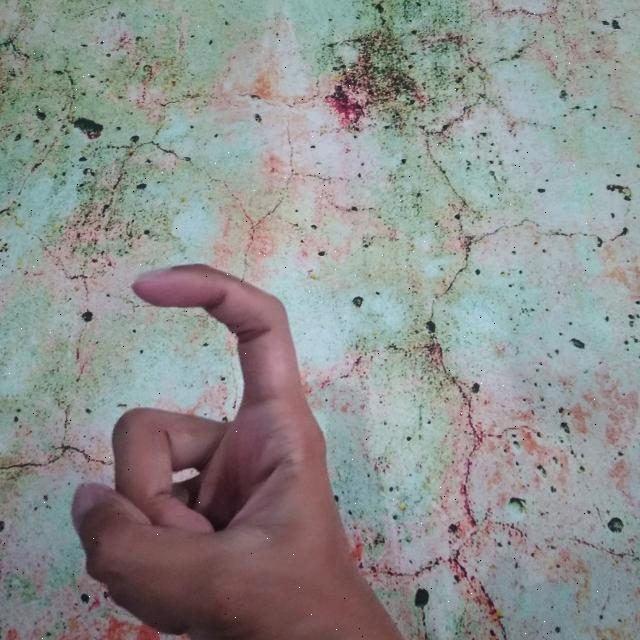X: (59, 256, 412, 640)
